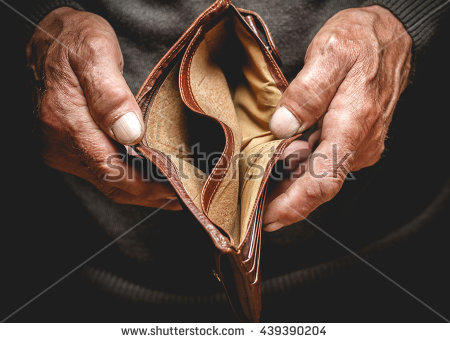monedero: (125, 1, 312, 323)
